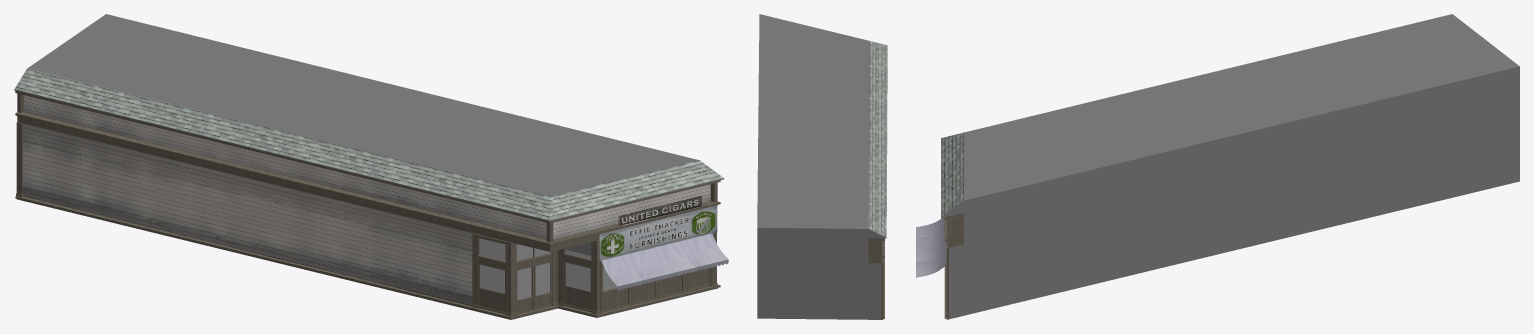
Rendered from Building 4.FBX.
3 views of the same model, side by side, from view 1: azimuth 30°, elevation 25°; view 2: azimuth 150°, elevation 25°; view 3: azimuth 270°, elevation 25° (orthographic). The views are drawn at different scales.
Visible parts, largest first — view 1: B4-Walls, B4-Clading, B4-Wood_Frames, B4-Roof, B4-Signs, B4-Shade, B4-Window Glass; view 2: B4-Walls, B4-Roof, B4-Wood_Frames; view 3: B4-Walls, B4-Roof, B4-Shade, B4-Wood_Frames.
Boxes of the visible parts, x1,y1,x2,y2 form: B4-Walls: [14, 14, 724, 299]; B4-Clading: [23, 95, 710, 305]; B4-Wood_Frames: [15, 91, 720, 319]; B4-Roof: [14, 68, 723, 220]; B4-Signs: [599, 195, 717, 260]; B4-Shade: [601, 233, 728, 290]; B4-Window Glass: [479, 238, 617, 299]; B4-Walls: [757, 14, 887, 319]; B4-Roof: [868, 41, 887, 237]; B4-Wood_Frames: [868, 238, 884, 319]; B4-Walls: [941, 14, 1519, 319]; B4-Roof: [941, 132, 963, 216]; B4-Shade: [916, 217, 946, 277]; B4-Wood_Frames: [944, 213, 963, 319].
Size of the model in its own units: 20.47 by 26.03 by 5.47.
Materials: 7 (5 with a texture image).
